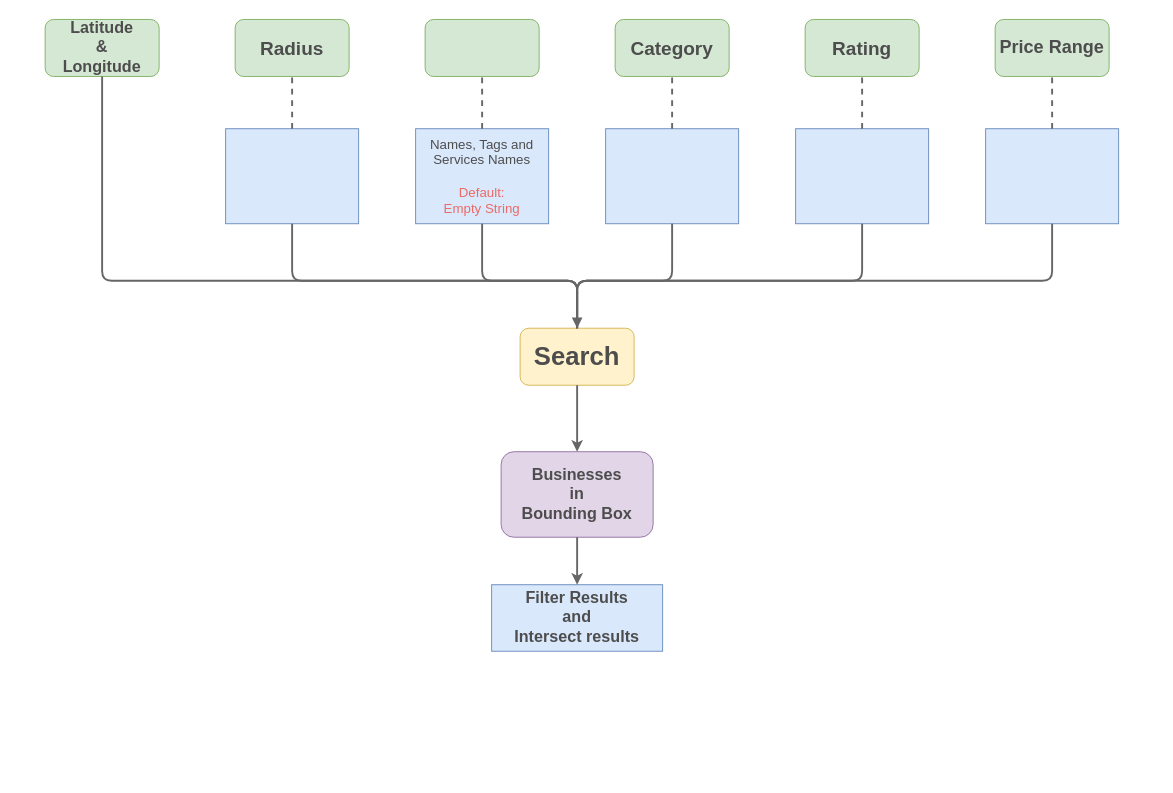
This 1173x793 diagram has some shape labels left out. Here are the shapes that lost their labels. From the top down, the centre of each, then its label:
At point (481, 47): "Search Query".
At point (292, 176): "Between 1 KM to 100 KM Default: 10 KM".
At point (672, 176): "One of the Categories or All Default: All Categories".
At point (862, 176): "1/2/3/4 Stars & UP Default: All".
At point (1052, 176): "Min and Max Default: Min is 0 Max is Null (No limit)".
